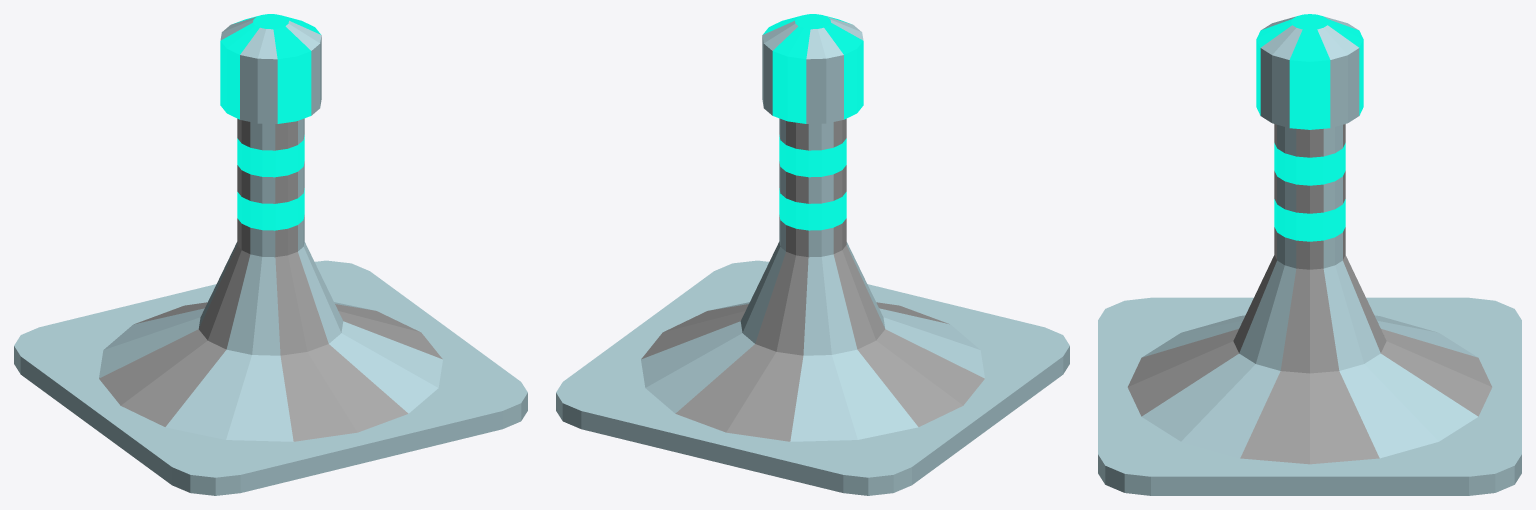
Rendered from laser.glb.
The picture shows the model from 3 angles, left to right: view 1: azimuth 30°, elevation 25°; view 2: azimuth 150°, elevation 25°; view 3: azimuth 270°, elevation 25°; orthographic projection. The views are drawn at different scales.
Visible parts, largest first — view 1: Plane; view 2: Plane; view 3: Plane.
Boxes of the visible parts, <box> form: Plane: <box>14,14,527,495</box>; Plane: <box>556,14,1069,495</box>; Plane: <box>1098,14,1521,495</box>.
Bounding box in the file's own units: 2 × 2 × 2.
